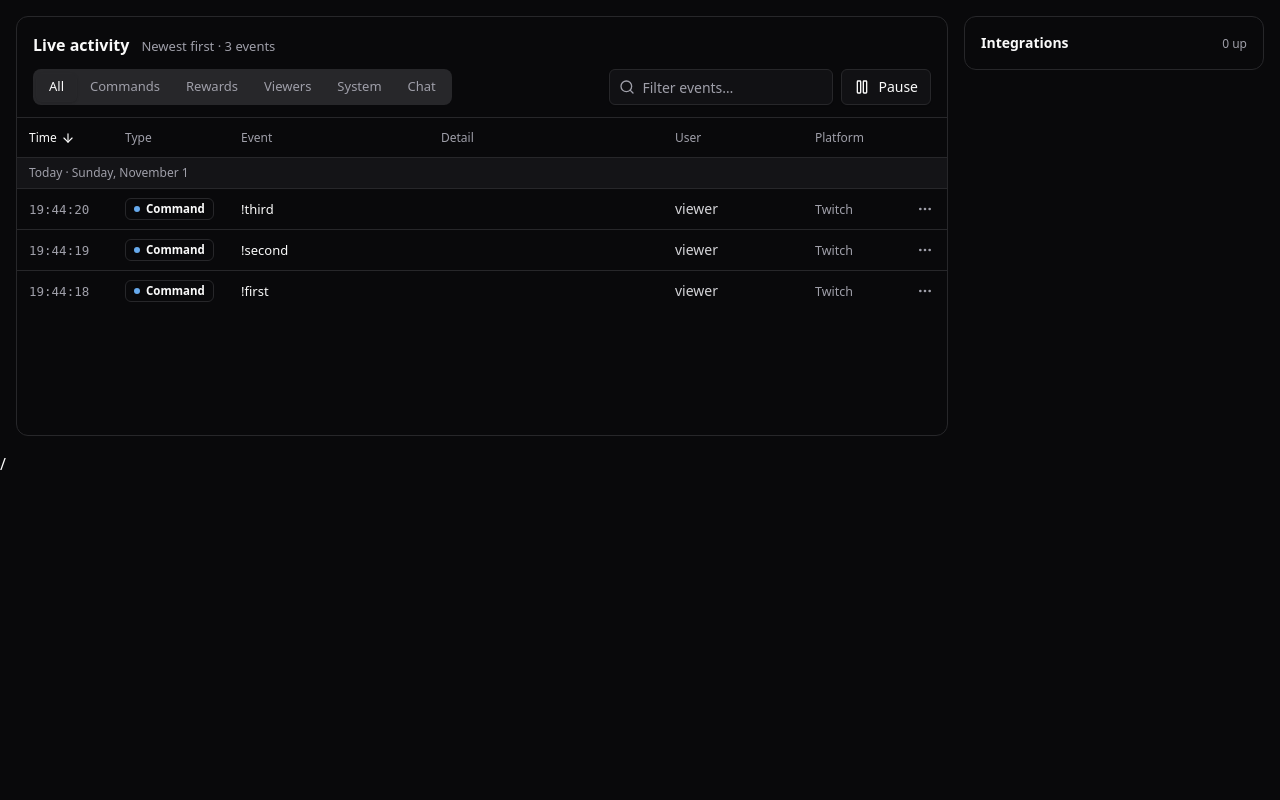
it: Live activity › steps through the rows it shows with ↑ and ↓ while an entry is open
The width and height of the screenshot is (1280, 800).
Click the text "!second": [265, 250] box [241,240,288,258]
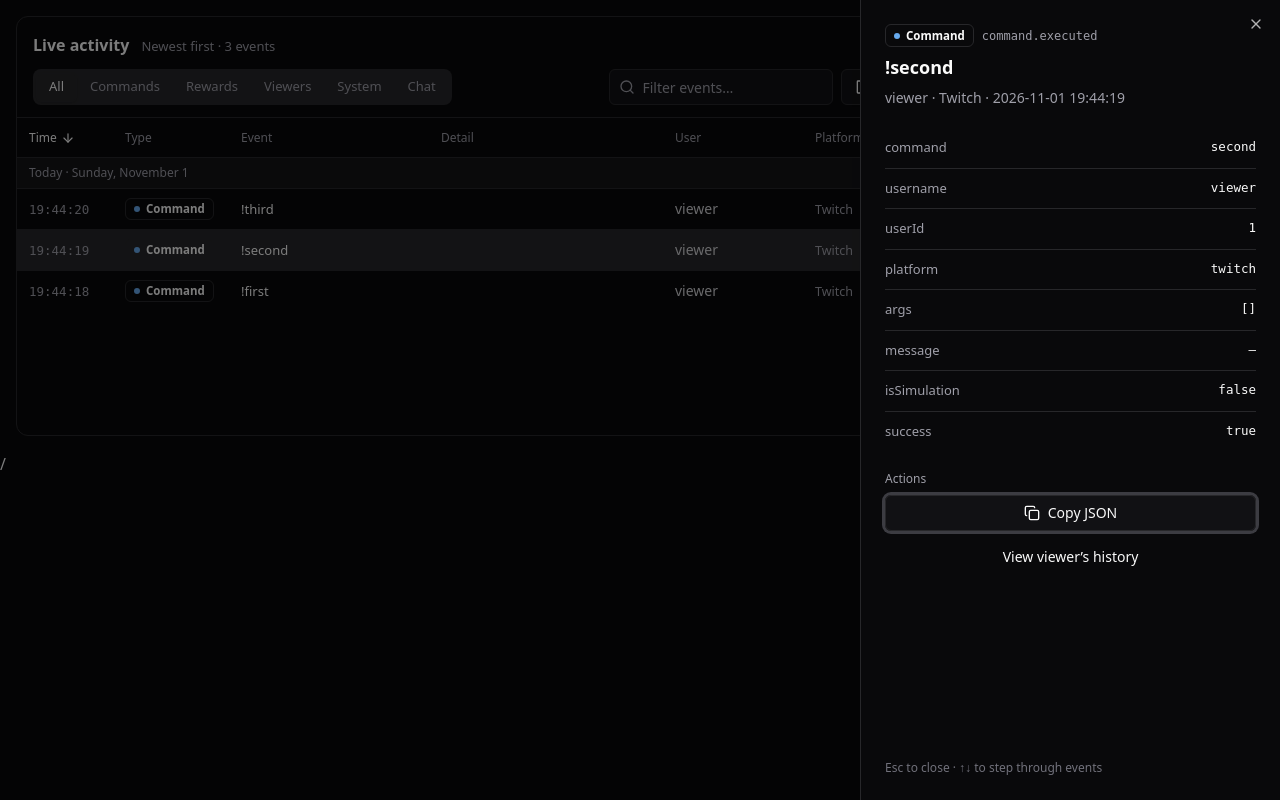
Expected: the dialog "!second" is shown, [860,0,1279,799]
Press Arrowdown
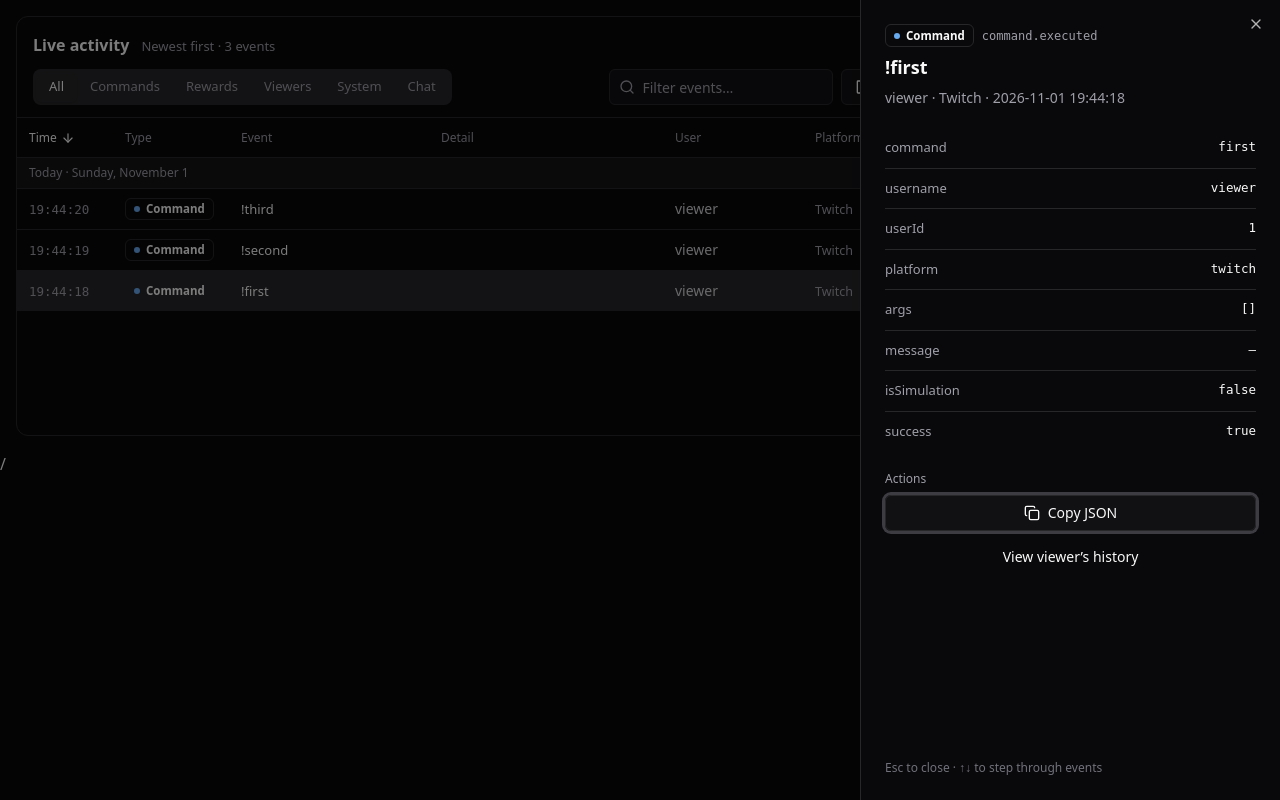
Expected: the dialog "!first" is shown, [860,0,1279,799]
// The last row stays selected rather than wrapping around.
Press Arrowdown
Expected: the dialog "!first" is shown, [860,0,1279,799]
Press Arrowup Arrowup
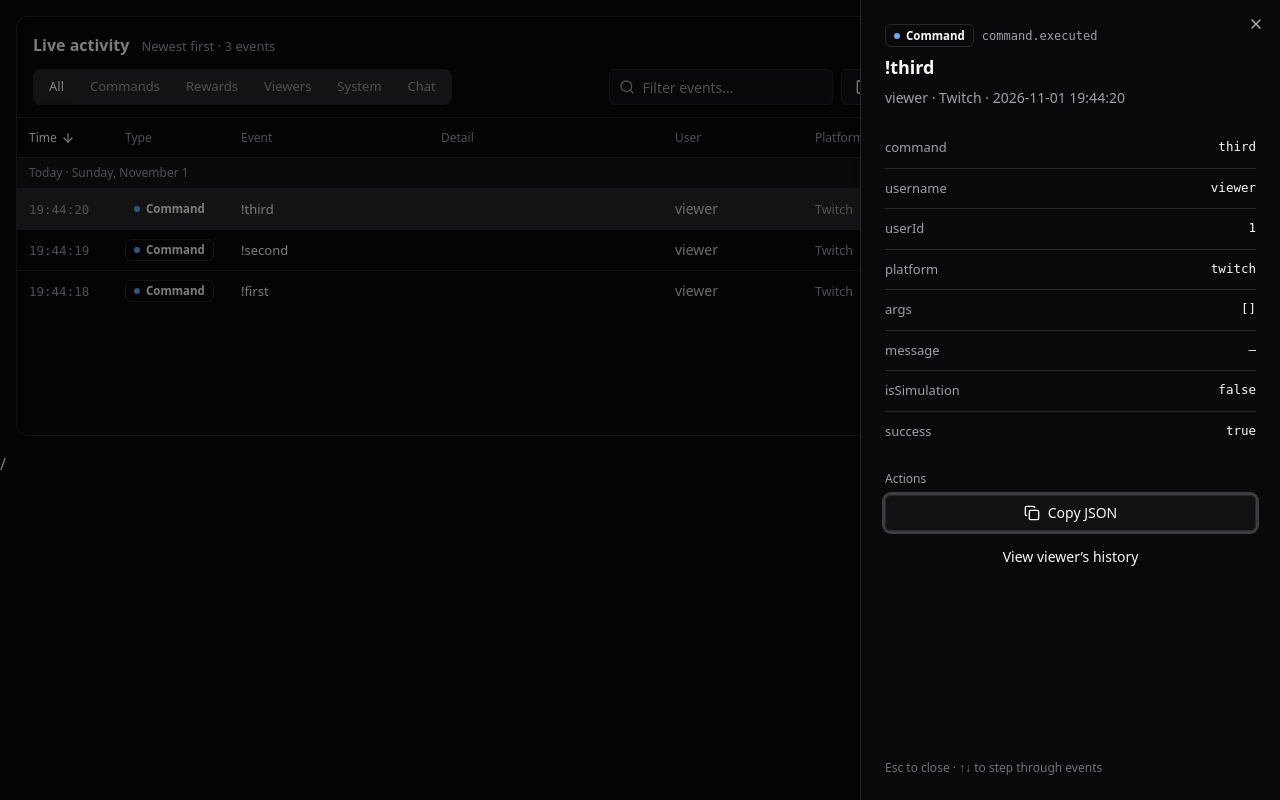
Expected: the dialog "!third" is shown, [860,0,1279,799]
